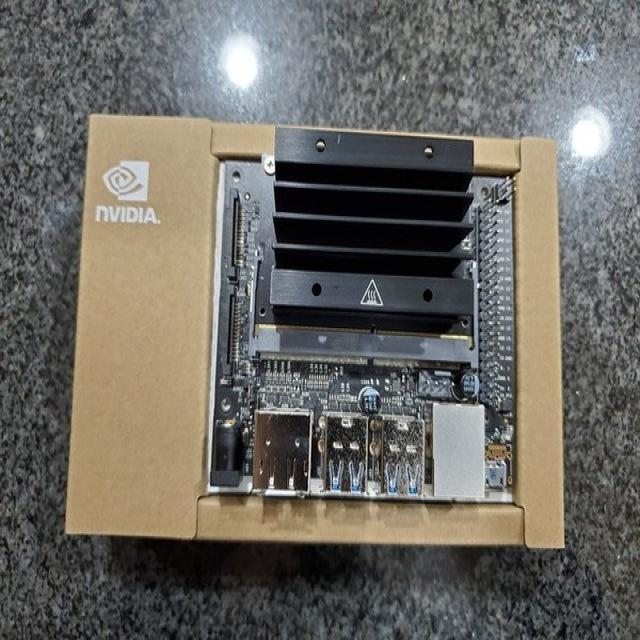Jetson Nano: (212, 128, 514, 502)
